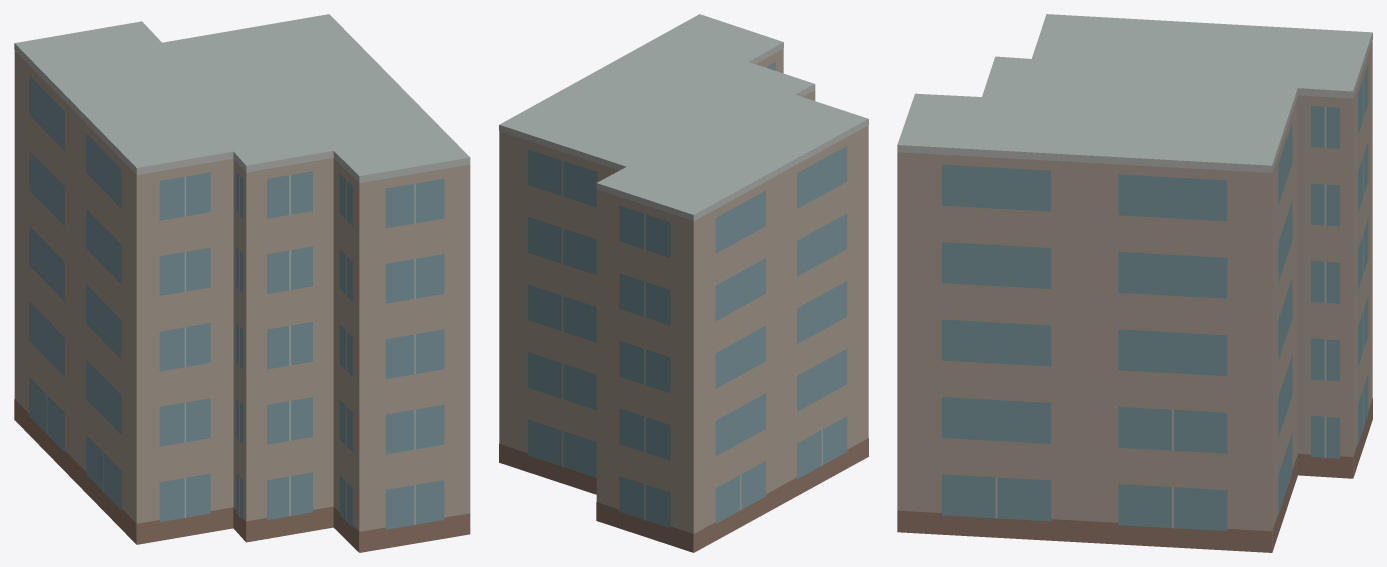
The model's file is survey-upis-32966442.glb.
3 views of the same model, side by side, from view 1: azimuth 30°, elevation 25°; view 2: azimuth 150°, elevation 25°; view 3: azimuth 270°, elevation 25° (orthographic). The views are drawn at different scales.
Visible parts, largest first — view 1: survey-upis-32966442.tmp; view 2: survey-upis-32966442.tmp; view 3: survey-upis-32966442.tmp.
Part boxes in pixels (x1,y1,x2,y2): survey-upis-32966442.tmp: (14, 14, 470, 552); survey-upis-32966442.tmp: (499, 14, 868, 552); survey-upis-32966442.tmp: (897, 14, 1372, 552).
Bounding box in the file's own units: 11.01 × 13.1 × 14.59.
